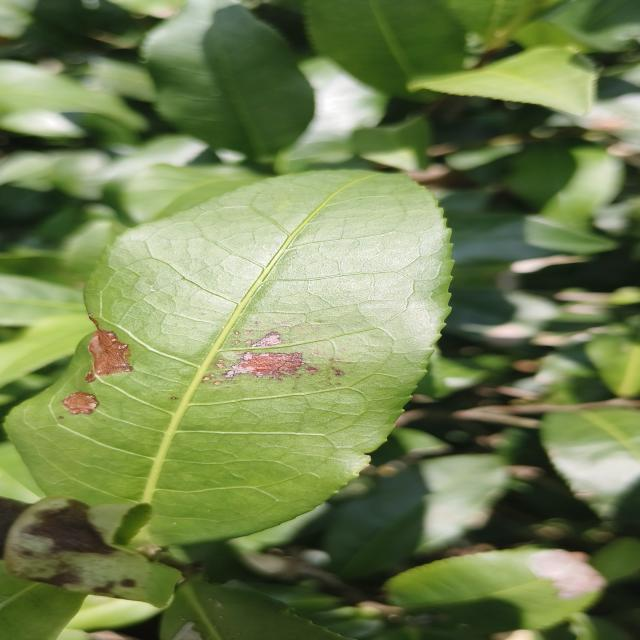Leaf: (6, 170, 450, 545), (143, 0, 314, 162), (324, 454, 510, 578), (384, 547, 606, 634), (304, 0, 465, 101), (408, 46, 596, 115), (160, 578, 344, 640), (505, 145, 624, 240), (540, 408, 640, 518), (445, 205, 616, 265), (0, 61, 145, 129), (118, 163, 263, 224), (0, 274, 85, 327), (352, 117, 430, 171), (585, 334, 640, 398)
